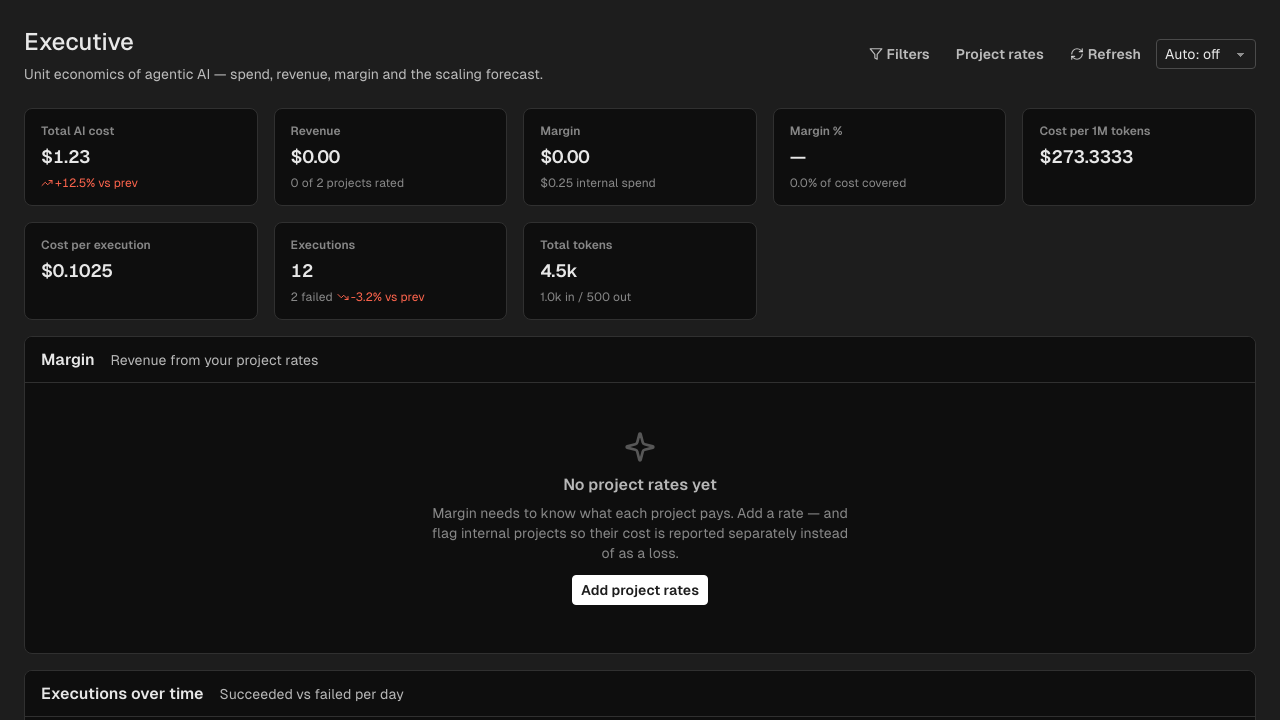
it: Margin › asks for rates instead of showing a fabricated loss
Expected: the text "No project rates yet" is shown, [563,475,717,495]
Click the button "Add project rates": (640, 590) [572,575,708,605]
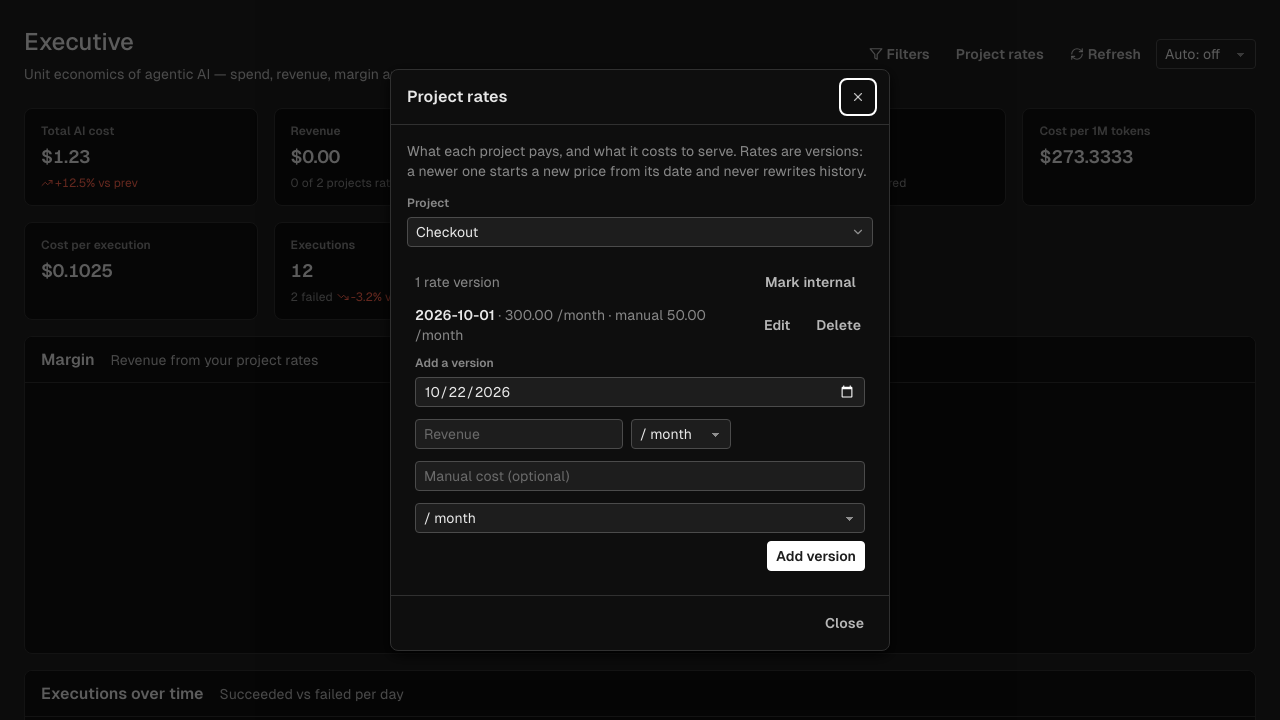
Now the dialog "Project rates" is shown, box [390,69,890,651]
